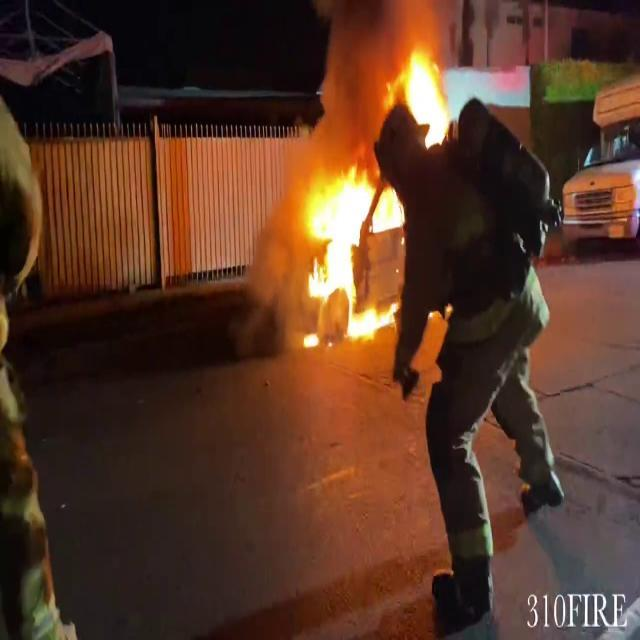Fire: (294, 159, 393, 349), (397, 36, 453, 151)
